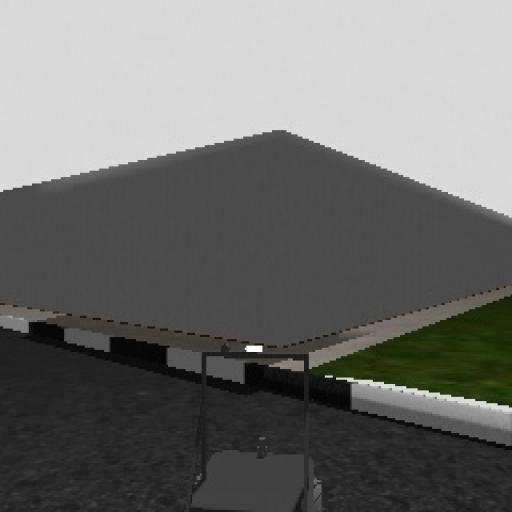huskya200: (189, 341, 329, 512)
